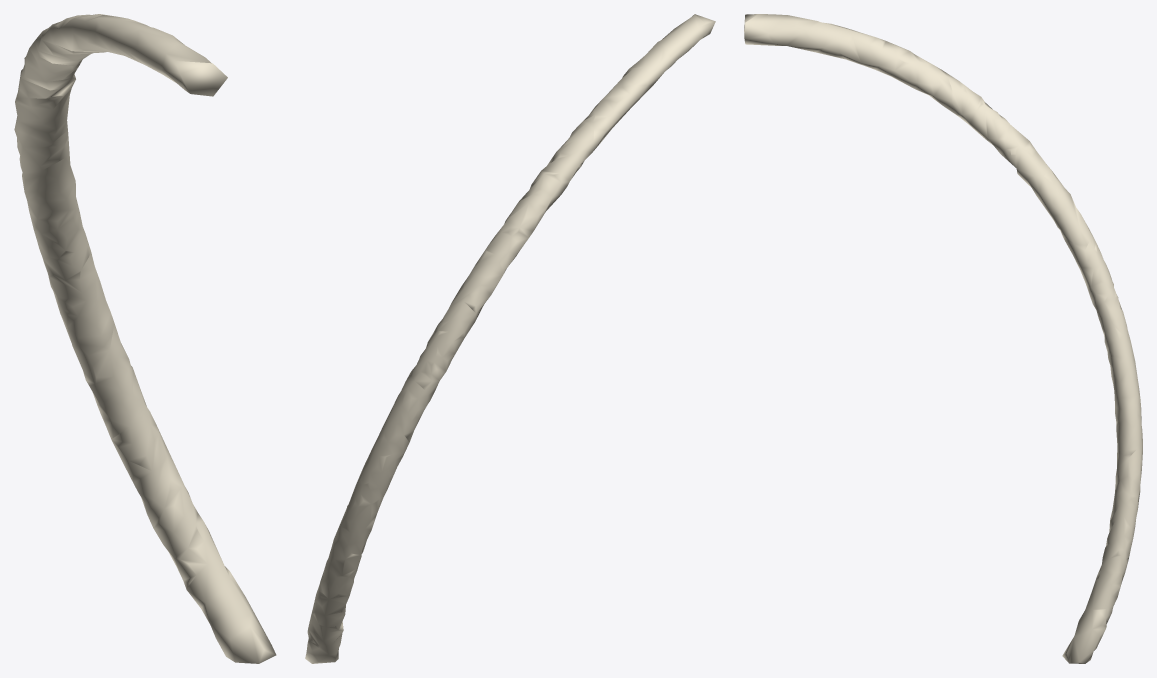
Rendered from rib_12_r.glb.
3 views of the same model, side by side, from view 1: azimuth 30°, elevation 25°; view 2: azimuth 150°, elevation 25°; view 3: azimuth 270°, elevation 25° (orthographic). The views are drawn at different scales.
Parts seen in each view (by area): view 1: geometry_0; view 2: geometry_0; view 3: geometry_0.
Boxes of the visible parts, x1,y1,x2,y2 form: geometry_0: (14,14,276,663); geometry_0: (305,14,715,663); geometry_0: (744,14,1142,663).
Bounding box in the file's own units: 0.261 × 0.6017 × 0.3999.
